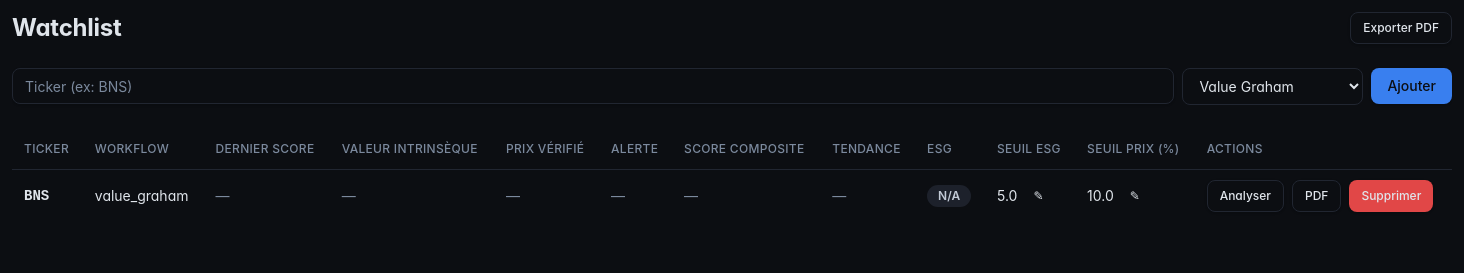
Test: WatchlistPdfExport — bouton Exporter PDF global › affiche message d'erreur générique sur erreur non-404
Click the button with test id "export-pdf-watchlist" at (1401, 28), box 1350,12 -> 1452,44
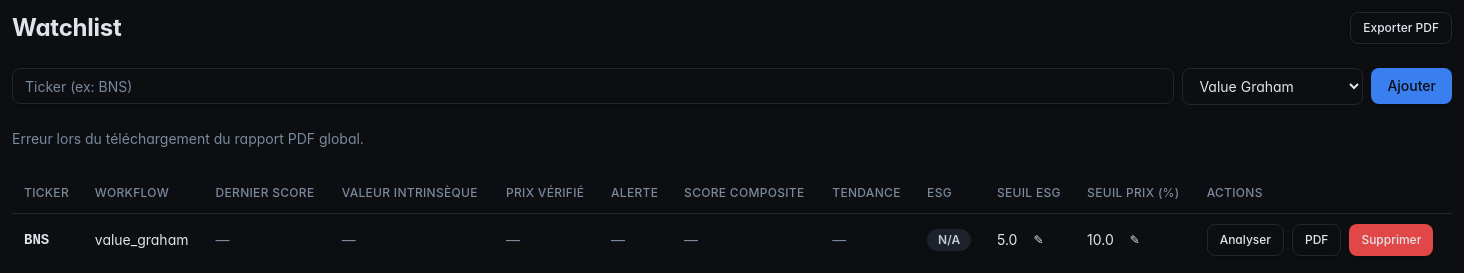
Result: the text "Erreur lors du téléchargement du rapport PDF global." is shown at 12,130 -> 364,147
